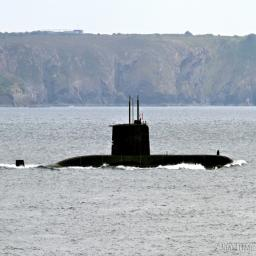submarine: (1, 97, 231, 170)
